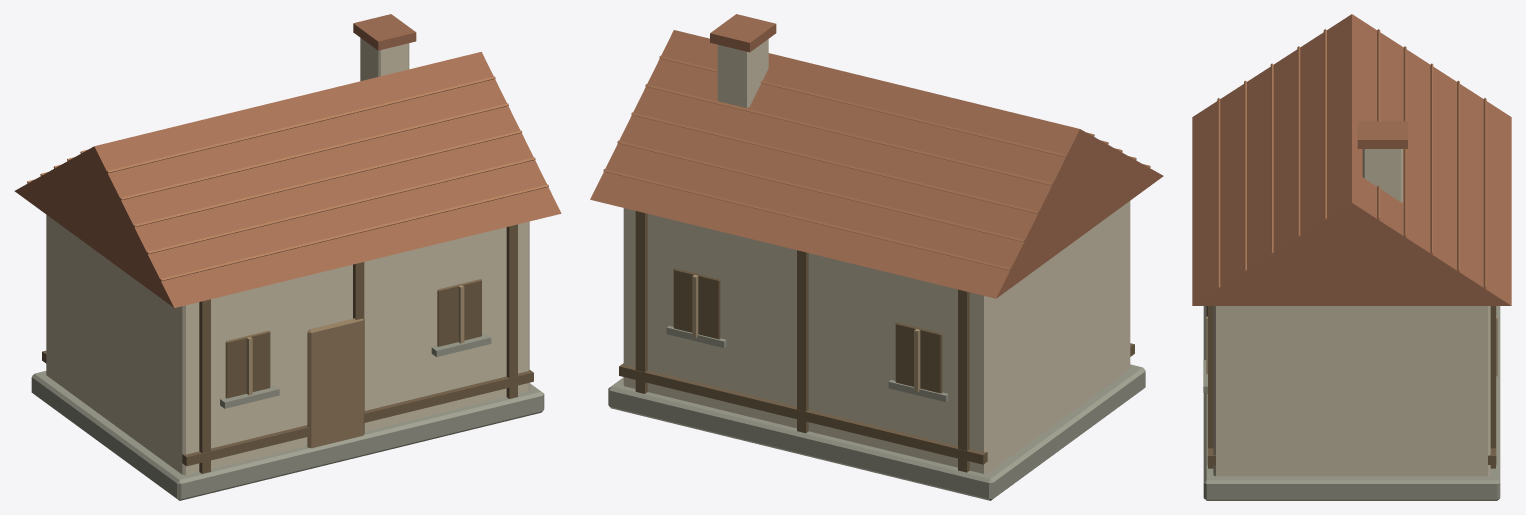
Rendered from farmhouse.glb.
3 renders of one model, left to right at view 1: azimuth 30°, elevation 25°; view 2: azimuth 150°, elevation 25°; view 3: azimuth 270°, elevation 25°, orthographic. The views are drawn at different scales.
Parts seen in each view (by area): view 1: farmhouse_roof, farmhouse_plaster, farmhouse_stone, farmhouse_oak_dark, farmhouse_oak, farmhouse_roof_light, farmhouse_oak_light; view 2: farmhouse_roof, farmhouse_plaster, farmhouse_oak_dark, farmhouse_stone, farmhouse_roof_light, farmhouse_oak_light; view 3: farmhouse_roof, farmhouse_plaster, farmhouse_stone, farmhouse_roof_light, farmhouse_oak_dark.
Boxes of the visible parts, x1=… form: farmhouse_roof: x1=14, y1=14, x2=561, y2=307; farmhouse_plaster: x1=46, y1=38, x2=529, y2=475; farmhouse_stone: x1=31, y1=334, x2=544, y2=500; farmhouse_oak_dark: x1=42, y1=224, x2=533, y2=473; farmhouse_oak: x1=307, y1=318, x2=364, y2=448; farmhouse_roof_light: x1=27, y1=76, x2=548, y2=281; farmhouse_oak_light: x1=246, y1=285, x2=464, y2=394; farmhouse_roof: x1=590, y1=14, x2=1163, y2=298; farmhouse_plaster: x1=623, y1=39, x2=1130, y2=473; farmhouse_oak_dark: x1=619, y1=211, x2=1134, y2=472; farmhouse_stone: x1=608, y1=326, x2=1145, y2=500; farmhouse_roof_light: x1=603, y1=55, x2=1150, y2=270; farmhouse_oak_light: x1=692, y1=274, x2=920, y2=392; farmhouse_roof: x1=1192, y1=14, x2=1511, y2=305; farmhouse_plaster: x1=1213, y1=149, x2=1490, y2=476; farmhouse_stone: x1=1203, y1=306, x2=1500, y2=500; farmhouse_roof_light: x1=1217, y1=29, x2=1486, y2=288; farmhouse_oak_dark: x1=1207, y1=306, x2=1496, y2=468.
Size of the model in its own units: 5.8 by 4.83 by 4.15.
